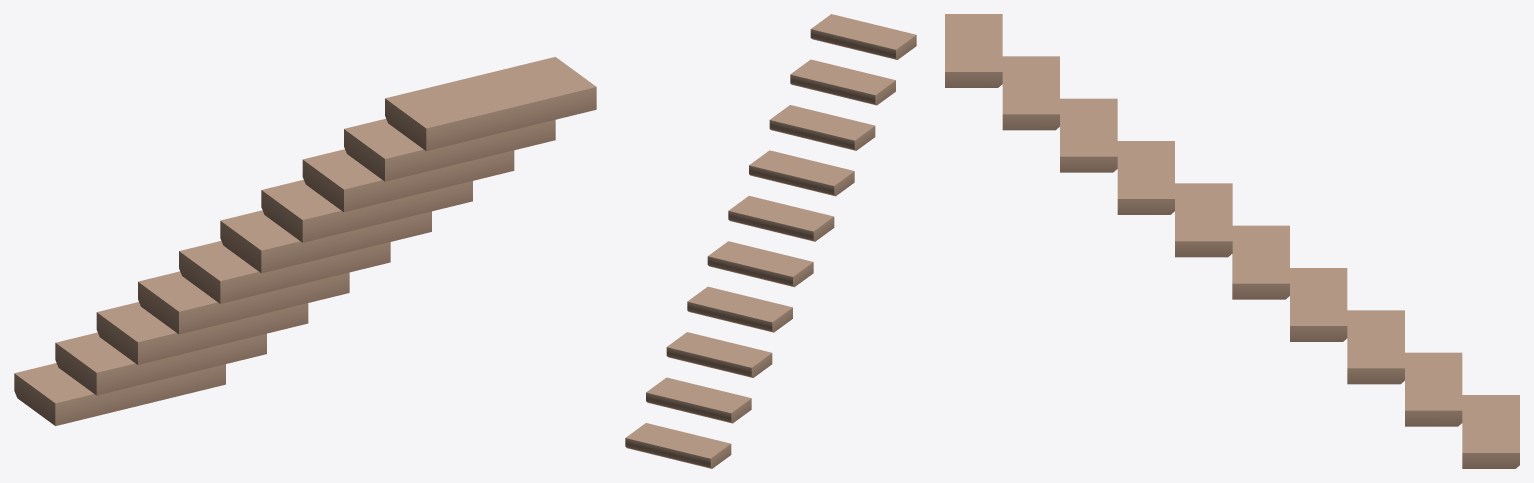
File: stairs-floating.glb
3 views of the same model, side by side, from view 1: azimuth 30°, elevation 25°; view 2: azimuth 150°, elevation 25°; view 3: azimuth 270°, elevation 25° (orthographic). The views are drawn at different scales.
Visible parts, largest first — view 1: stairs-floating; view 2: stairs-floating; view 3: stairs-floating.
Boxes of the visible parts, <box> form: stairs-floating: <box>14,57,596,425</box>; stairs-floating: <box>625,14,916,468</box>; stairs-floating: <box>945,14,1519,468</box>.
Bounding box in the file's own units: 0.6514 × 2.08 × 2.73.
